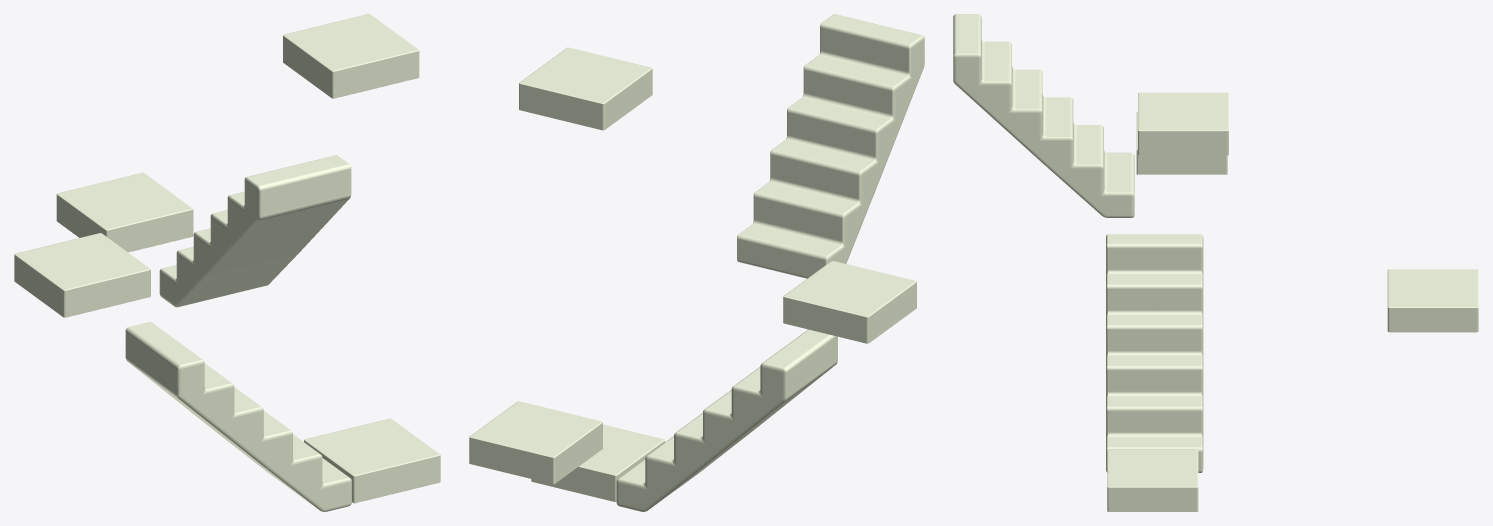
File: steps_bevel.glb
3 views of the same model, side by side, from view 1: azimuth 30°, elevation 25°; view 2: azimuth 150°, elevation 25°; view 3: azimuth 270°, elevation 25° (orthographic). The views are drawn at different scales.
Visible parts, largest first — view 1: Cube.005, Cube, Cube.003, Cube.001, Cube.002, Cube.004; view 2: Cube.005, Cube, Cube.001, Cube.002, Cube.003, Cube.004; view 3: Cube, Cube.005, Cube.002, Cube.001, Cube.004, Cube.003.
Part boxes in pixels (x1,y1,x2,y2): Cube.005: (159, 155, 351, 307); Cube: (125, 322, 351, 511); Cube.003: (14, 233, 150, 317); Cube.001: (283, 14, 419, 98); Cube.002: (56, 172, 193, 252); Cube.004: (304, 418, 440, 503); Cube.005: (737, 14, 924, 278); Cube: (616, 329, 837, 511); Cube.001: (519, 47, 652, 130); Cube.002: (469, 401, 602, 484); Cube.003: (783, 261, 916, 343); Cube.004: (531, 424, 664, 501); Cube: (1106, 234, 1203, 472); Cube.005: (953, 14, 1134, 217); Cube.002: (1387, 269, 1478, 332); Cube.001: (1138, 92, 1228, 155); Cube.004: (1107, 449, 1198, 511); Cube.003: (1136, 112, 1227, 174).
Bounding box in the file's own units: 3.63 × 4.08 × 5.08.
